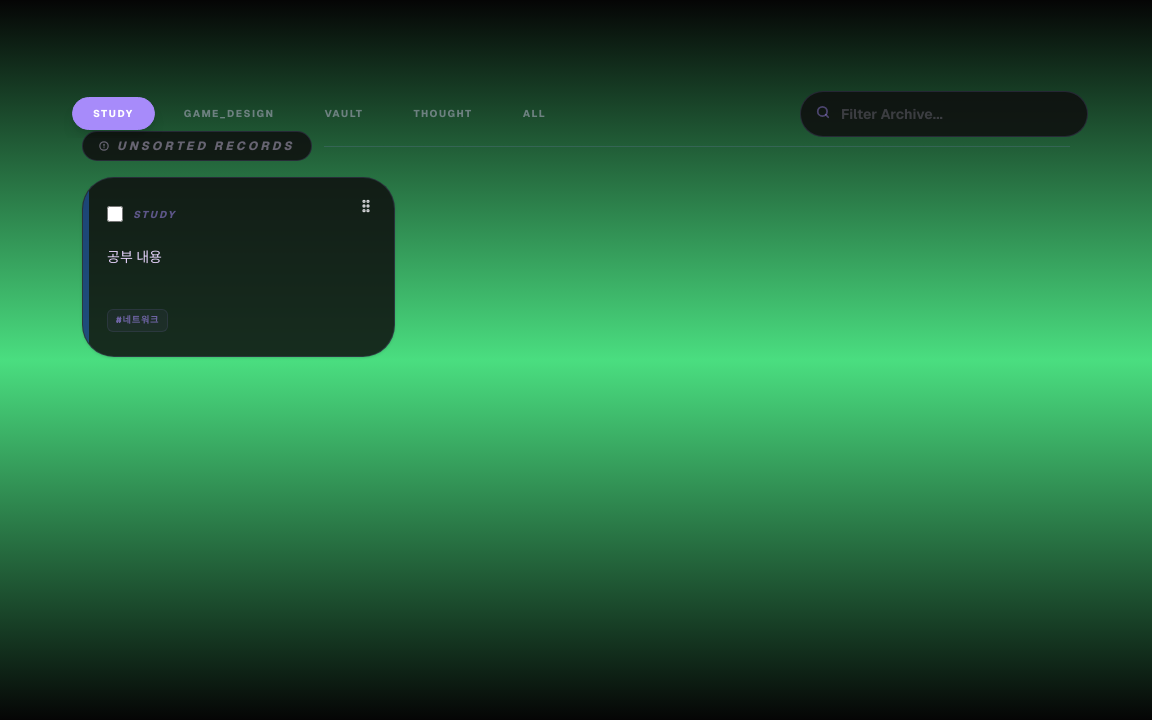
it: MemoList Component › 메모 목록을 올바르게 렌더링해야 함
This screenshot has width=1152, height=720.
Note: Select 'All' filter to see both STUDY and THOUGHT memos
Click the button "All". click: {"x": 534, "y": 114}
box: [502,97,567,130]
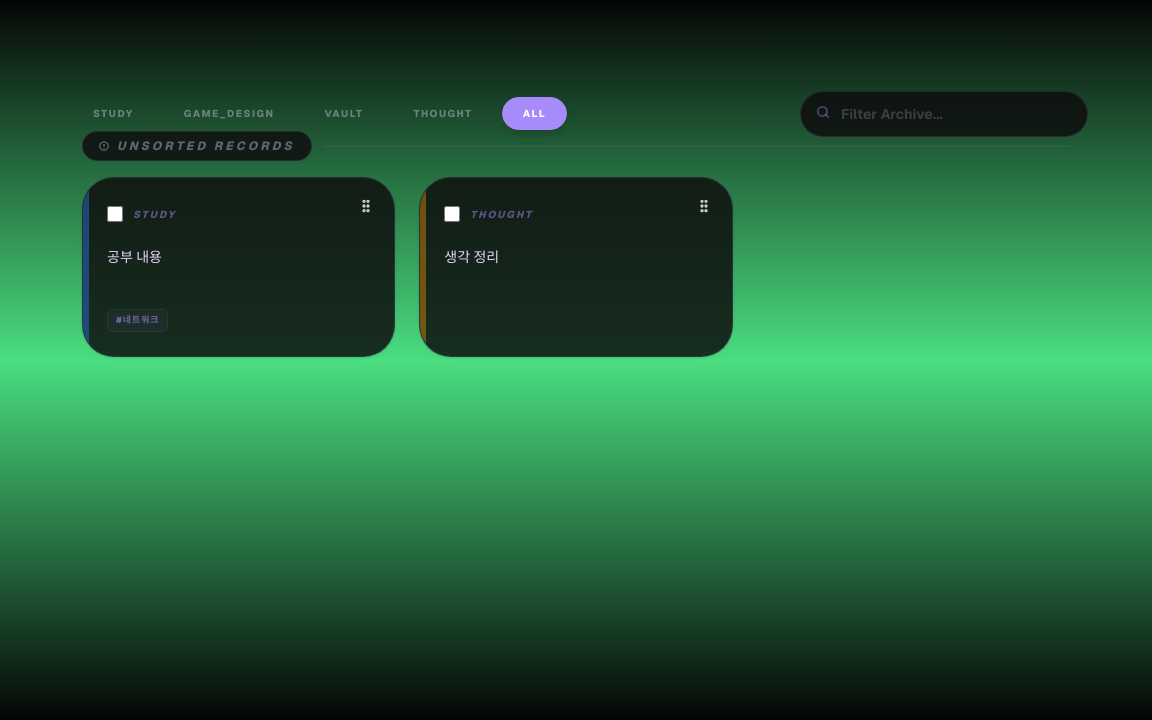
Expected: the text "공부 내용" is shown, [107,248,162,266]
Now the text "생각 정리" is shown, box [444,248,499,266]
